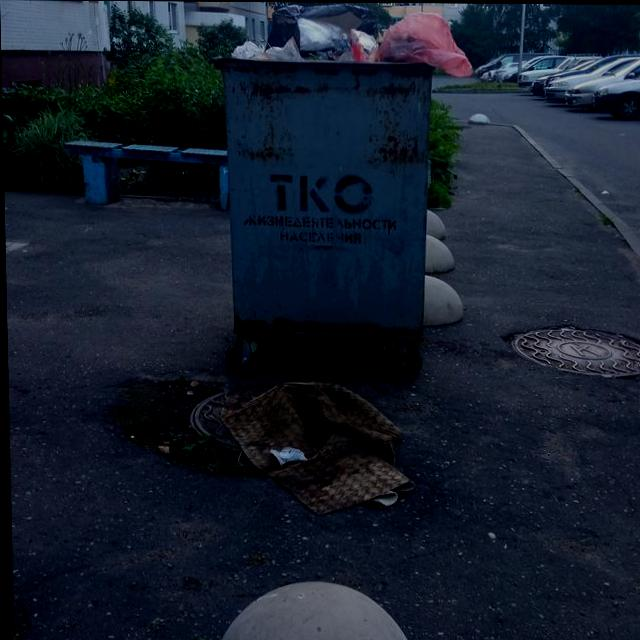Trash_Can_Full: (209, 1, 439, 341)
